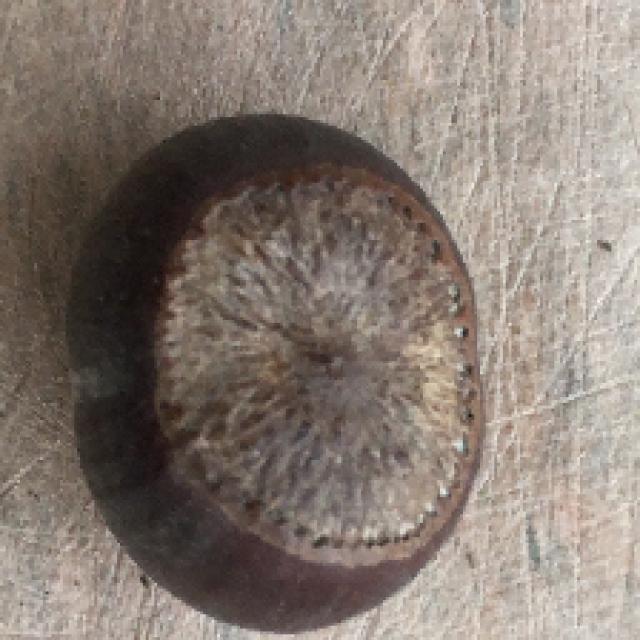DamagedHazelnut: (64, 112, 488, 635)
